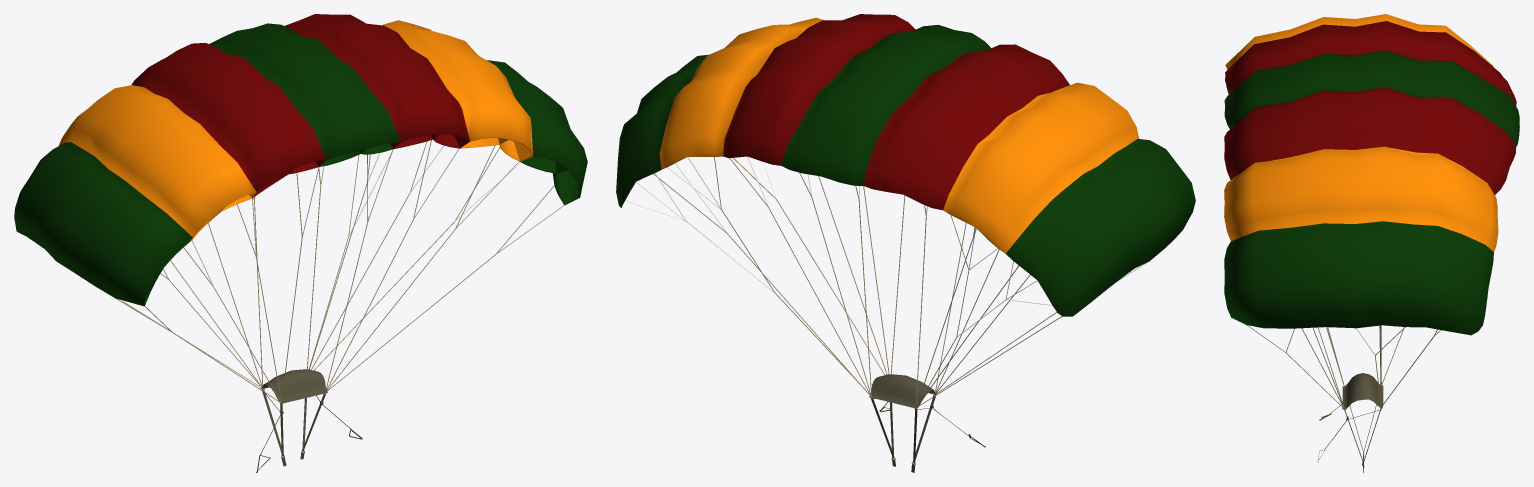
The model's file is Parachute 2.FBX.
3 views of the same model, side by side, from view 1: azimuth 30°, elevation 25°; view 2: azimuth 150°, elevation 25°; view 3: azimuth 270°, elevation 25° (orthographic). The views are drawn at different scales.
Parts seen in each view (by area): view 1: parachute 2; view 2: parachute 2; view 3: parachute 2.
Part boxes in pixels (box(x1,y1,x2,y2)): parachute 2: box(14, 14, 587, 472); parachute 2: box(616, 14, 1195, 472); parachute 2: box(1224, 14, 1519, 472).
Size of the model in its own units: 498 by 392 by 255.
